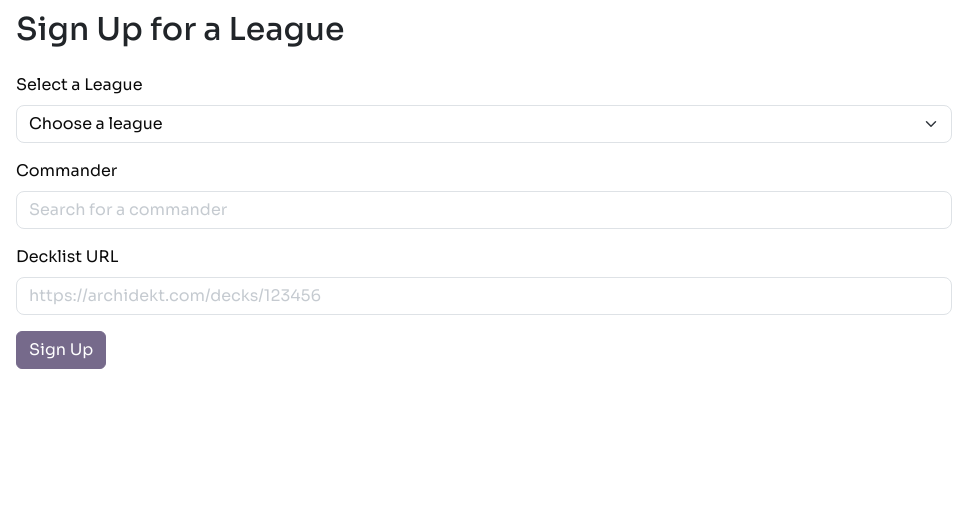
Test: SignUp › Commander autocomplete › should display commander suggestions
Type "Ken" into the field labelled "Commander" at (484, 210), box [16, 191, 952, 229]
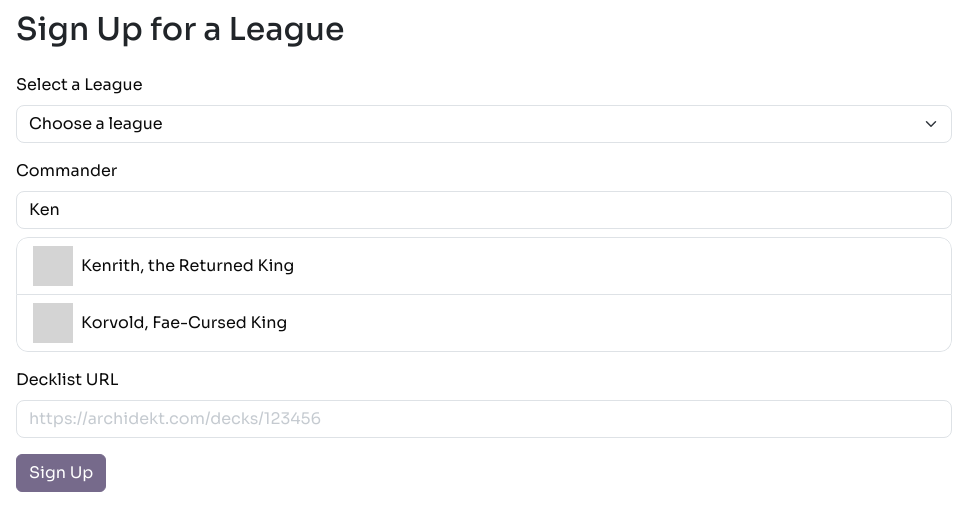
Check: the list item "Kenrith, the Returned King" is shown, box [16, 237, 952, 295]
